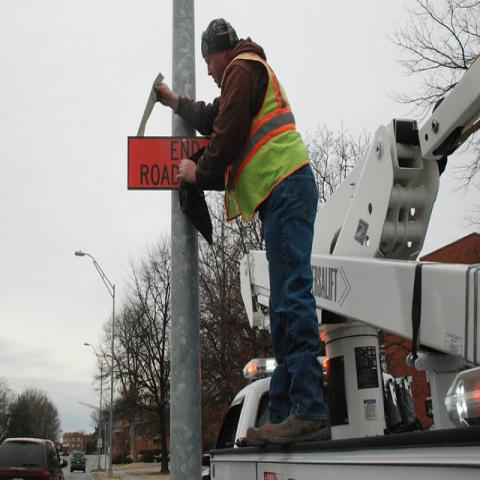car: (216, 377, 272, 451), (0, 438, 68, 479), (70, 450, 86, 473)
truck: (215, 323, 389, 449)
